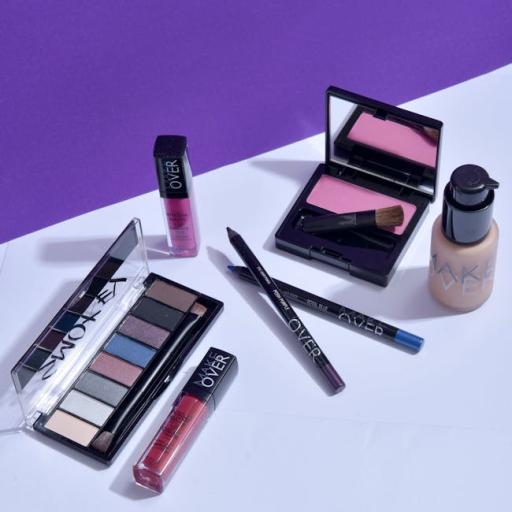lipstick: (134, 348, 237, 492), (154, 136, 199, 256)
